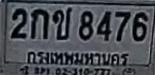2: (11, 7, 26, 38)
4: (96, 10, 110, 40)
6: (132, 11, 147, 40)
7: (114, 11, 130, 41)
8: (78, 10, 92, 39)
A01: (30, 8, 48, 38)
A10: (52, 6, 71, 39)
BKK: (23, 48, 131, 67)
